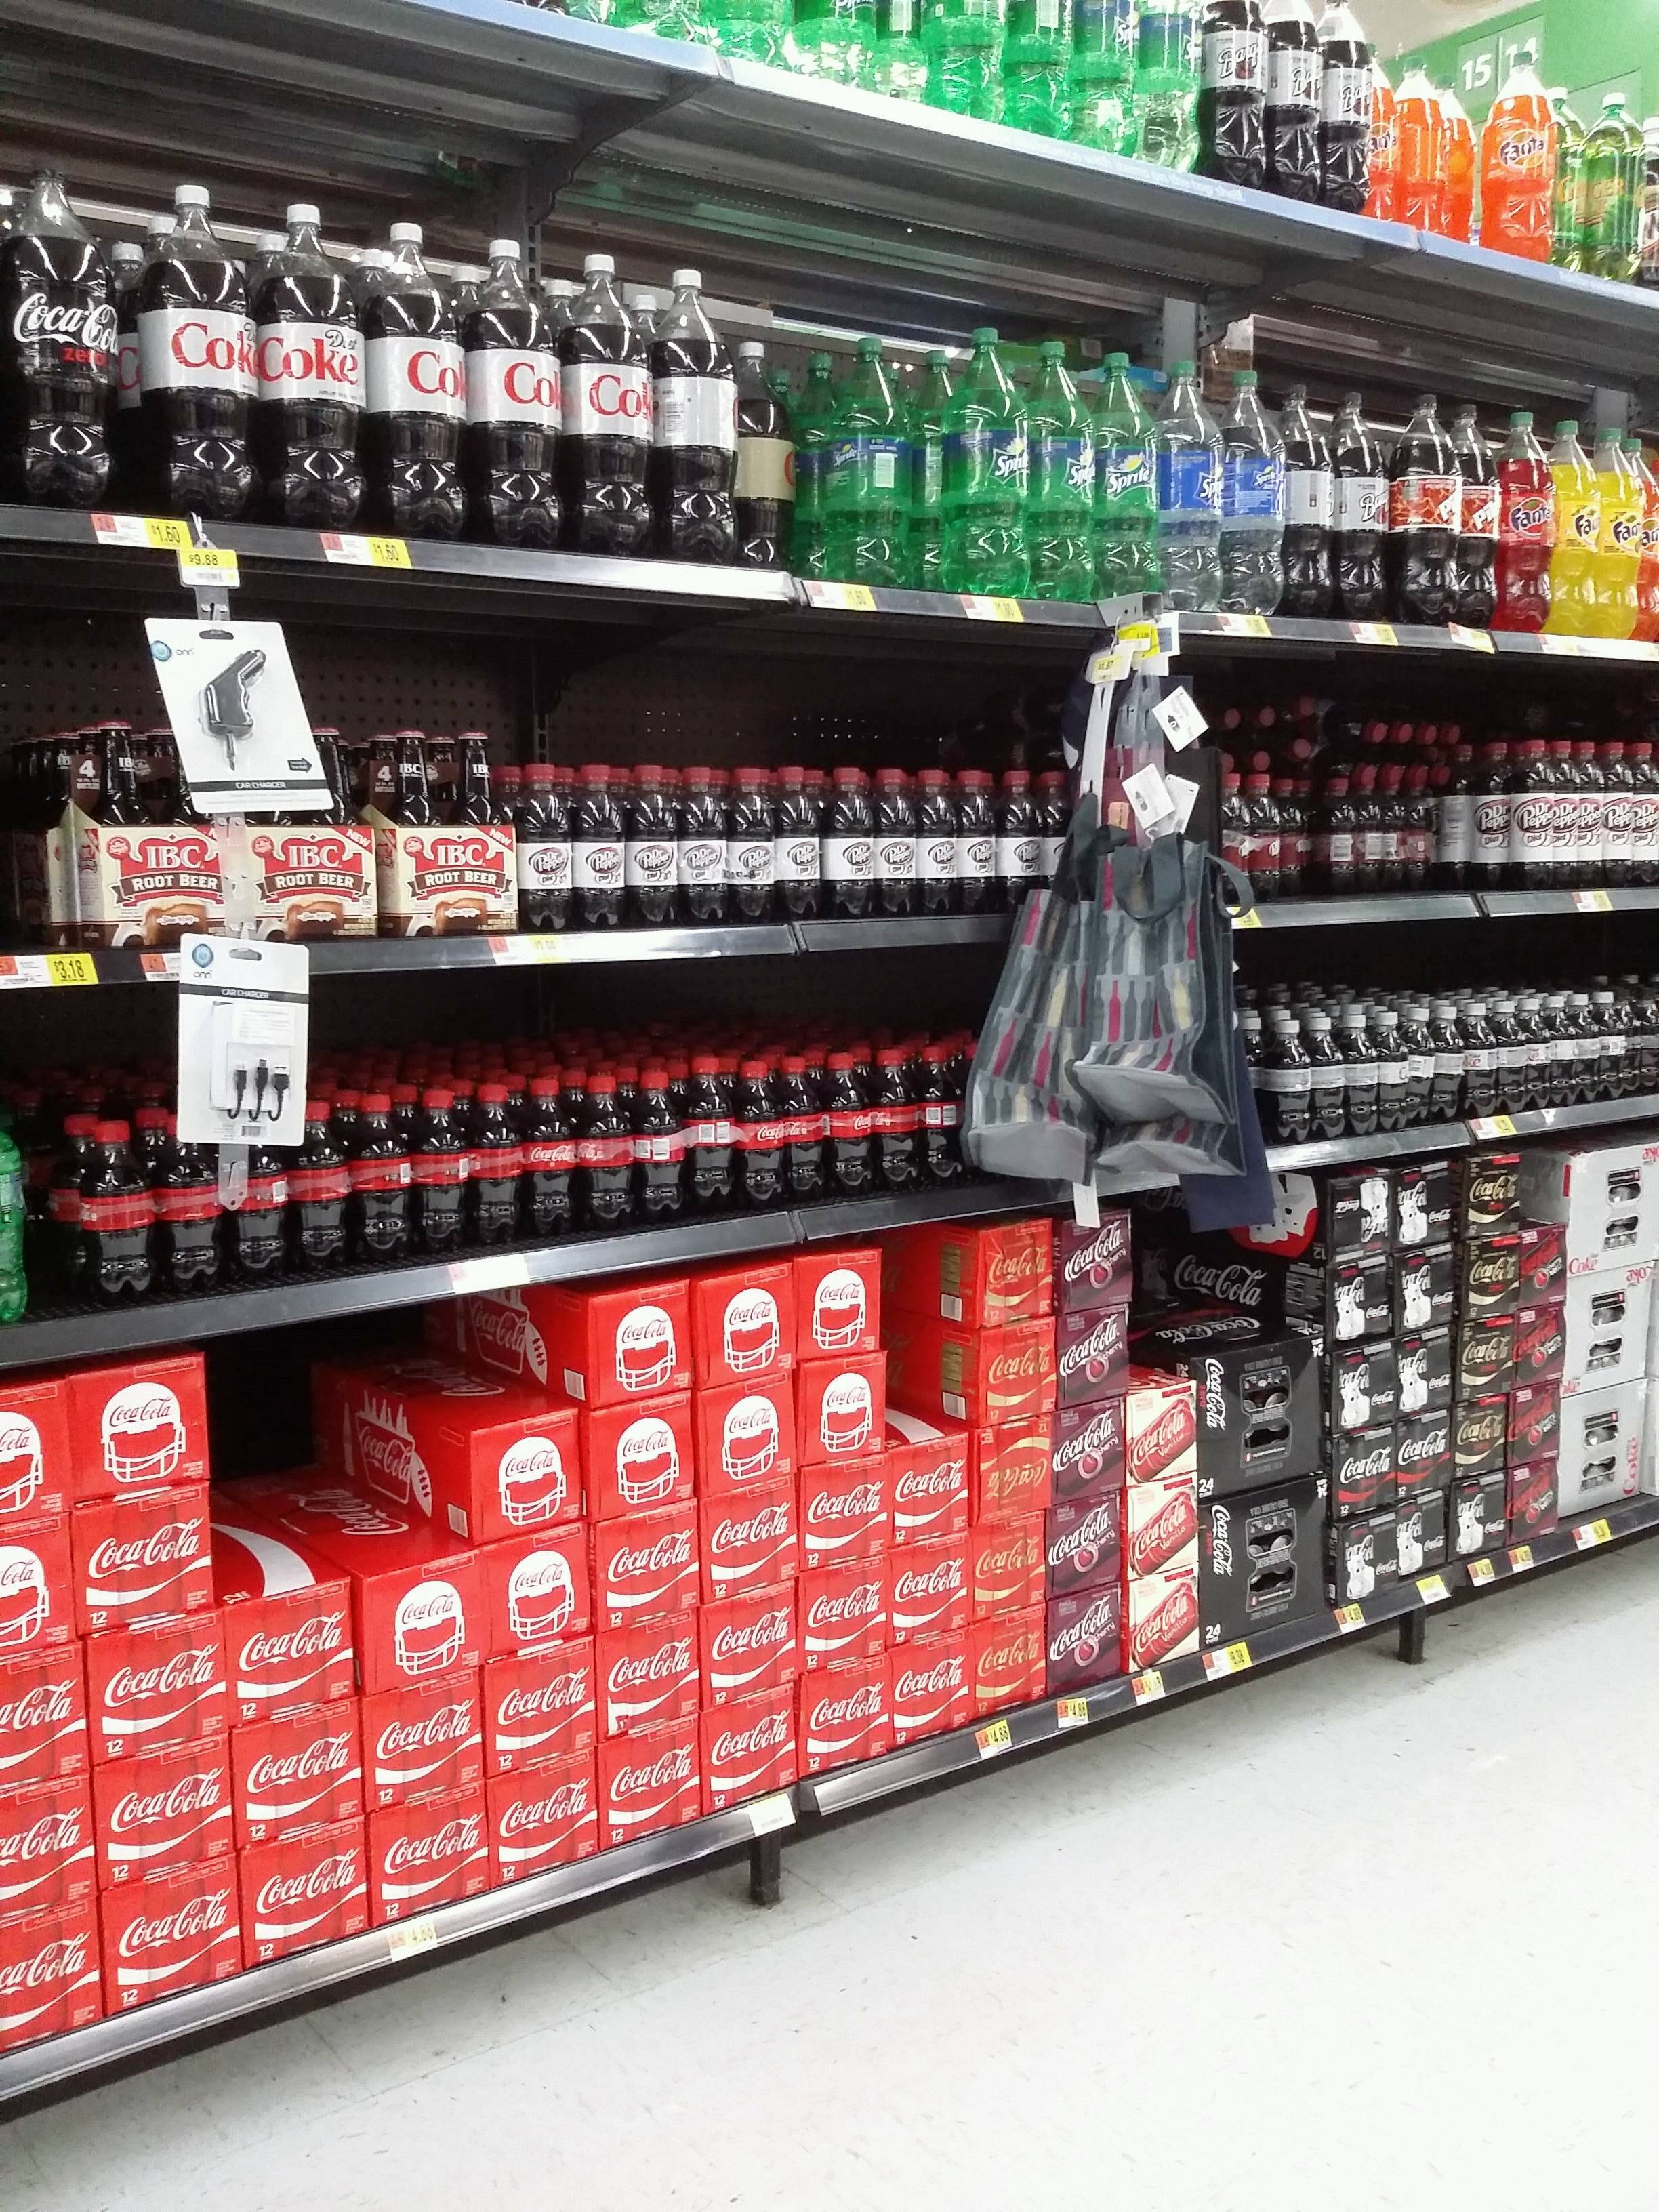Misplacement: (207, 1287, 591, 1958), (885, 1235, 985, 1757), (723, 326, 836, 578)
